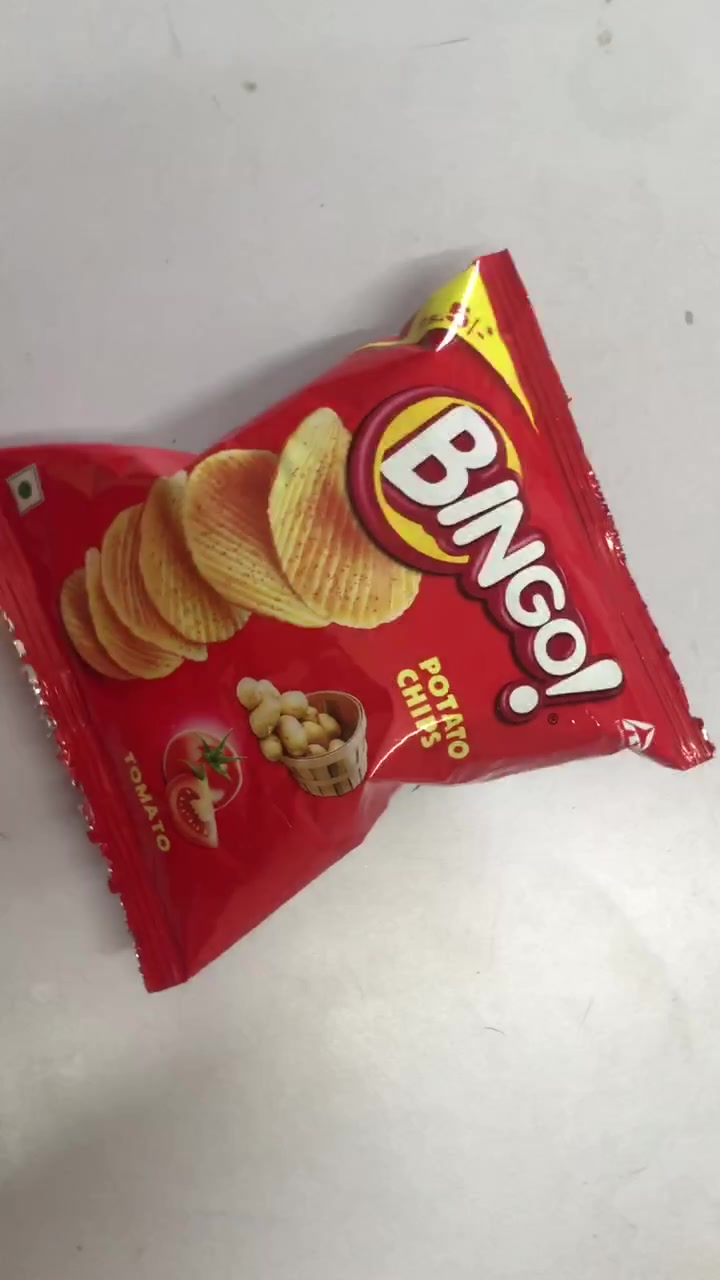Bingo: (5, 259, 710, 992)
